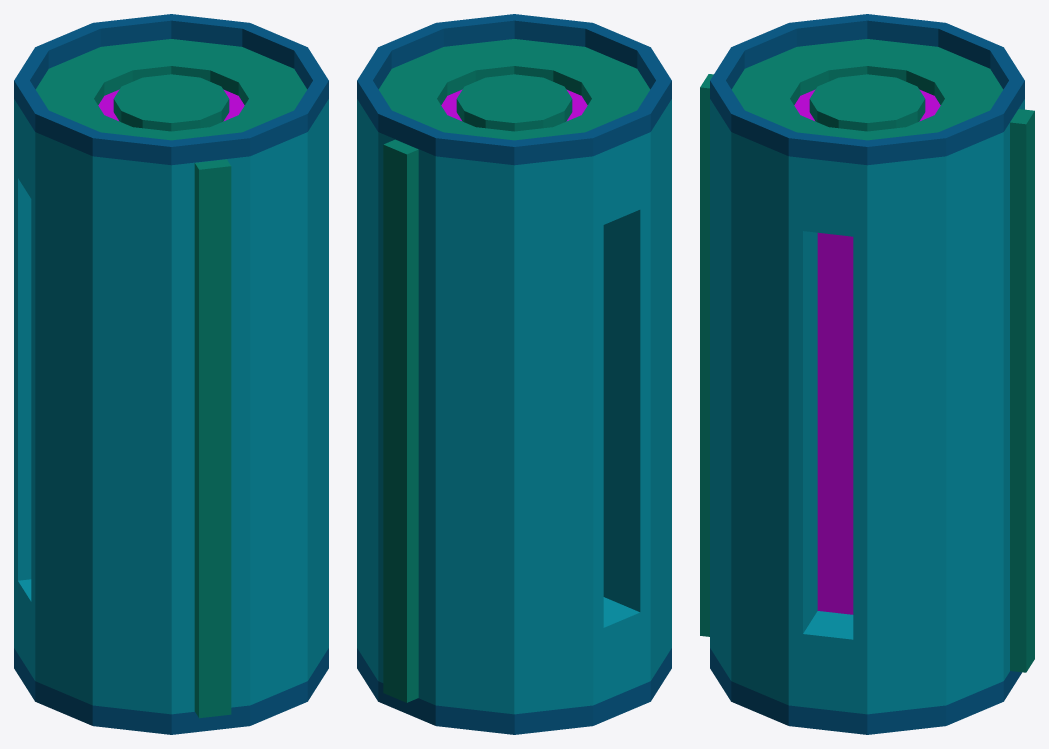
The model's file is MediumBattery.fbx.
The picture shows the model from 3 angles, left to right: view 1: azimuth 30°, elevation 25°; view 2: azimuth 150°, elevation 25°; view 3: azimuth 270°, elevation 25°; orthographic projection.
Visible parts, largest first — view 1: Cylinder.001; view 2: Cylinder.001; view 3: Cylinder.001.
Boxes of the visible parts, box(x1,y1,x2,y2) form: Cylinder.001: box(14, 14, 328, 734); Cylinder.001: box(357, 14, 671, 734); Cylinder.001: box(700, 14, 1034, 734).
Size of the model in its own units: 23.68 by 48.81 by 25.19.
